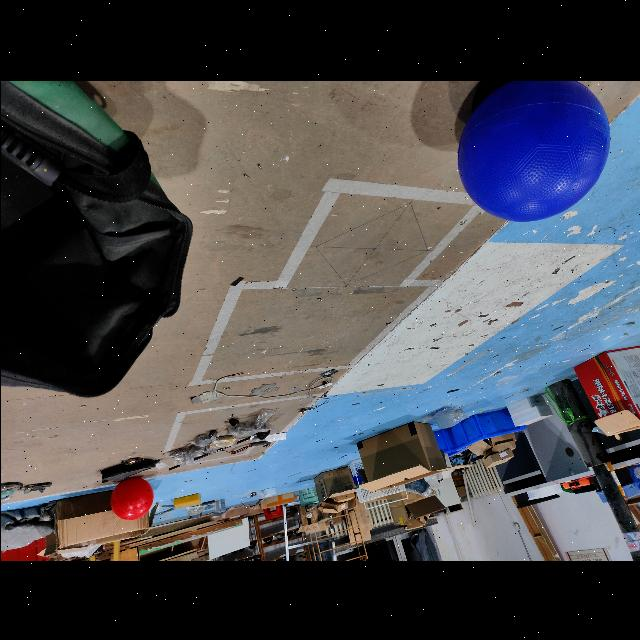B: (456, 80, 610, 222)
R: (110, 475, 152, 521)
